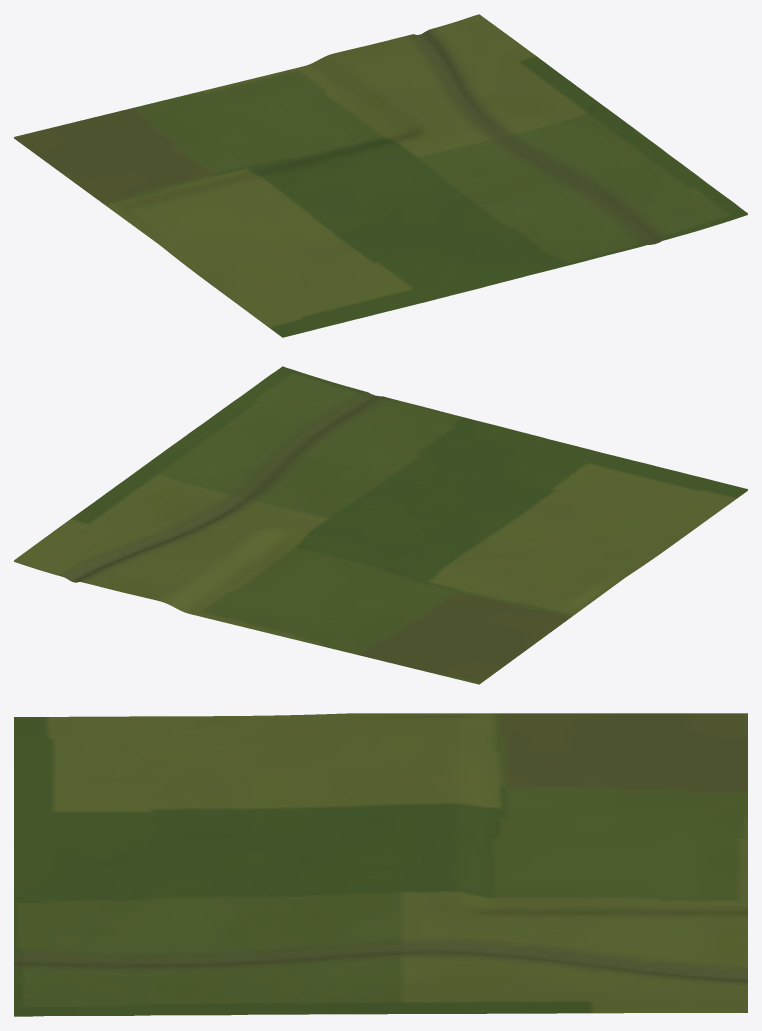
The model's file is land_n_02_05.glb.
The picture shows the model from 3 angles, top to bottom: view 1: azimuth 30°, elevation 25°; view 2: azimuth 150°, elevation 25°; view 3: azimuth 270°, elevation 25°; orthographic projection. The views are drawn at different scales.
Visible parts, largest first — view 1: land_n_02_05; view 2: land_n_02_05; view 3: land_n_02_05.
Boxes of the visible parts, x1,y1,x2,y2 form: land_n_02_05: [14, 14, 747, 337]; land_n_02_05: [14, 366, 747, 684]; land_n_02_05: [14, 713, 747, 1016].
Size of the model in its own units: 480 by 13.29 by 480.
